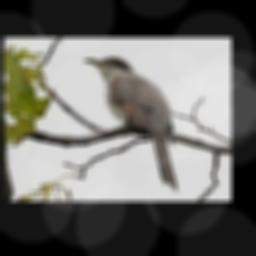Cuckoo: (83, 56, 177, 191)
